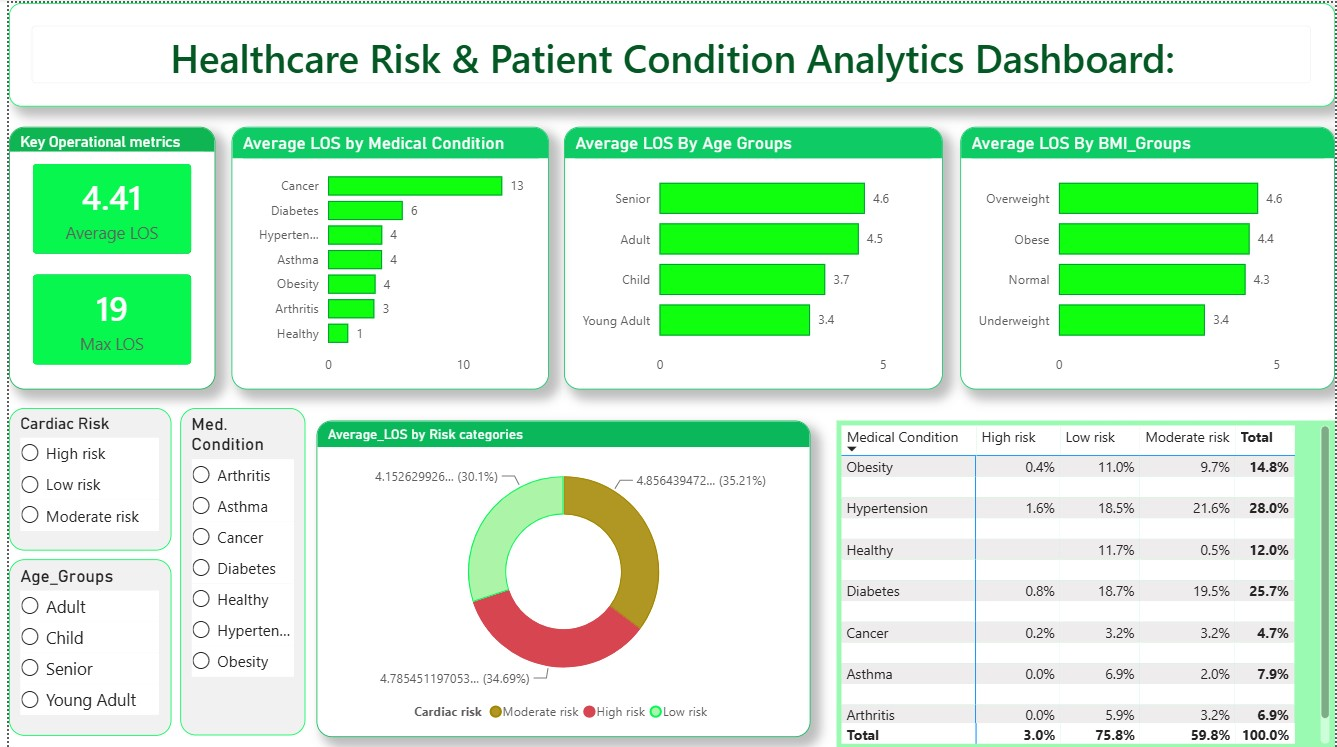

Layout of this report page (visuals, bound fields, positions):
{"tool":"powerbi","page":{"name":"Operational Metrics","canvas":[1280,720],"ordinal":3},"visuals":[{"type":"cardVisual","title":"Key Operational metrics","fields":{"Data":["MEASURES_Table.m_Average_LOS","MEASURES_Table.x_Max_LoS"]},"box":[0,119.4,199.1,253.4],"z":0},{"type":"clusteredBarChart","title":"Average LOS By Age Groups","fields":{"Category":["DIM_AgeGroups.Age_Groups"],"Y":["MEASURES_Table.m_Average_LOS"]},"box":[535.7,119.4,365.6,253.4],"z":1000},{"type":"clusteredBarChart","title":"Average LOS by Medical Condition","fields":{"Category":["DIM_MedicalCondition.Medical Condition"],"Y":["MEASURES_Table.m_Average_LOS"]},"box":[214.7,119.4,306.4,253.4],"z":2000},{"type":"donutChart","title":"Average_LOS by Risk categories","fields":{"Y":["MEASURES_Table.m_Average_LOS"],"Category":["FACT_Healthdata.Cardiac_Risk_categories"]},"box":[296.8,403,476.5,305.2],"z":3000},{"type":"pivotTable","fields":{"Rows":["FACT_Healthdata.Medical Condition"],"Columns":["FACT_Healthdata.Cardiac_Risk_categories"],"Values":["MEASURES_Table.m_TotalPatients_%"]},"box":[798.7,403,481.4,317.3],"z":4000},{"type":"listSlicer","fields":{"Values":["DIM_MedicalCondition.Medical Condition"]},"box":[165,391.2,121.2,316.2],"z":5000},{"type":"listSlicer","title":"Cardiac Risk","fields":{"Values":["FACT_Healthdata.Cardiac_Risk_categories"]},"box":[0,391.2,156.9,137.3],"z":6000},{"type":"listSlicer","fields":{"Values":["DIM_AgeGroups.Age_Groups"]},"box":[0,536.5,156.9,170.8],"z":7000},{"type":"clusteredBarChart","title":"Average LOS By BMI_Groups","fields":{"Category":["FACT_Healthdata.BMI_Groups"],"Y":["MEASURES_Table.m_Average_LOS"]},"box":[918.1,119.4,361.9,253.4],"z":8000},{"type":"cardVisual","fields":{"Data":["MEASURES_Table.dT_Main"]},"box":[0,0,1279.6,100.4],"z":9000}]}

Visuals, with their boxes in screenshot pixels (x1, y1, x2, y2), scaled from the page's 1280x720 canvas onto the 1337x747 screenshot:
"Key Operational metrics" cardVisual: crop(0, 124, 208, 387)
"Average LOS By Age Groups" clusteredBarChart: crop(560, 124, 941, 387)
"Average LOS by Medical Condition" clusteredBarChart: crop(224, 124, 544, 387)
"Average_LOS by Risk categories" donutChart: crop(310, 418, 808, 735)
pivotTable - FACT_Healthdata.Medical Condition x FACT_Healthdata.Cardiac_Risk_categories: crop(834, 418, 1336, 746)
listSlicer - DIM_MedicalCondition.Medical Condition: crop(172, 406, 299, 734)
"Cardiac Risk" listSlicer: crop(0, 406, 164, 548)
listSlicer - DIM_AgeGroups.Age_Groups: crop(0, 557, 164, 734)
"Average LOS By BMI_Groups" clusteredBarChart: crop(959, 124, 1336, 387)
cardVisual - MEASURES_Table.dT_Main: crop(0, 0, 1336, 104)
